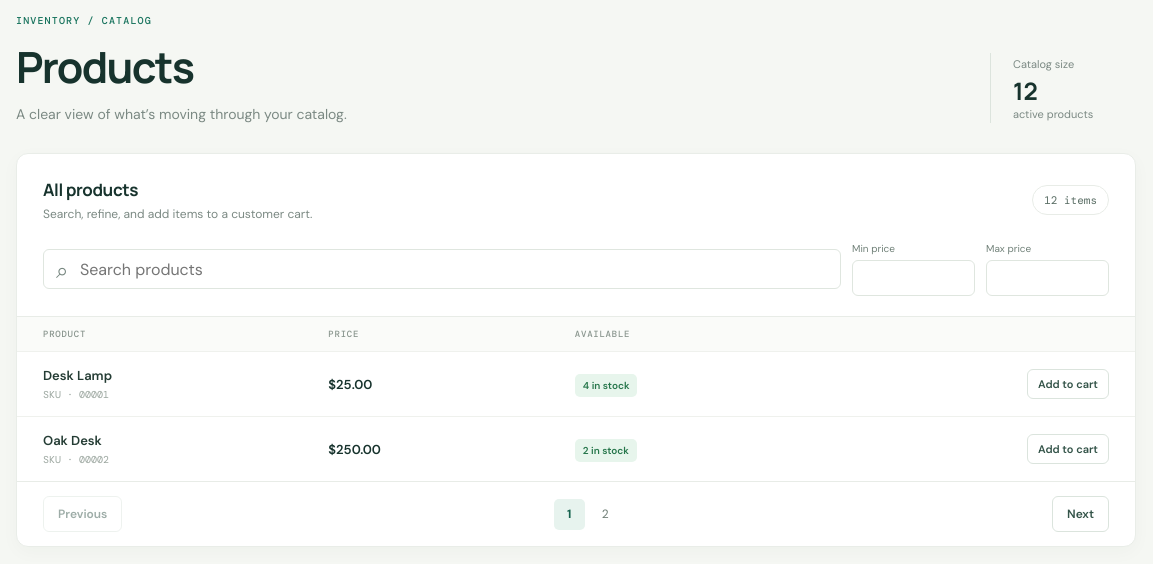
it: product and cart screens › loads products and filters the current page by name and price
Check: the text "Desk Lamp" is shown, box [43, 367, 112, 384]
Type "oak" into the search field named "Search products" at coordinates (442, 269), box [43, 249, 841, 289]
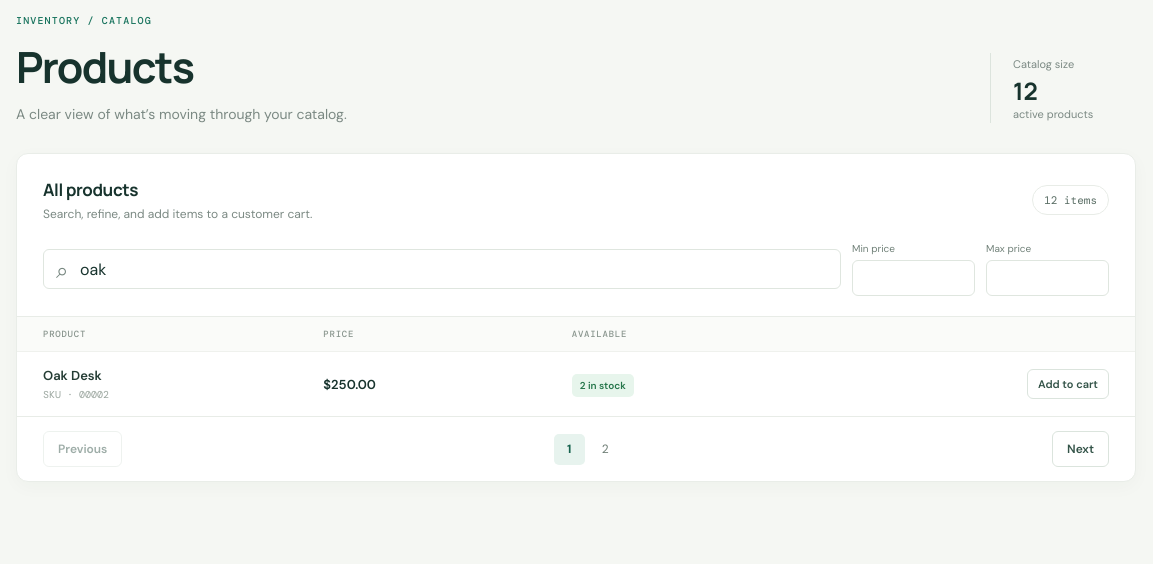
Check: the text "Oak Desk" is shown, box [43, 367, 102, 384]
Check: the text "Desk Lamp" is gone
